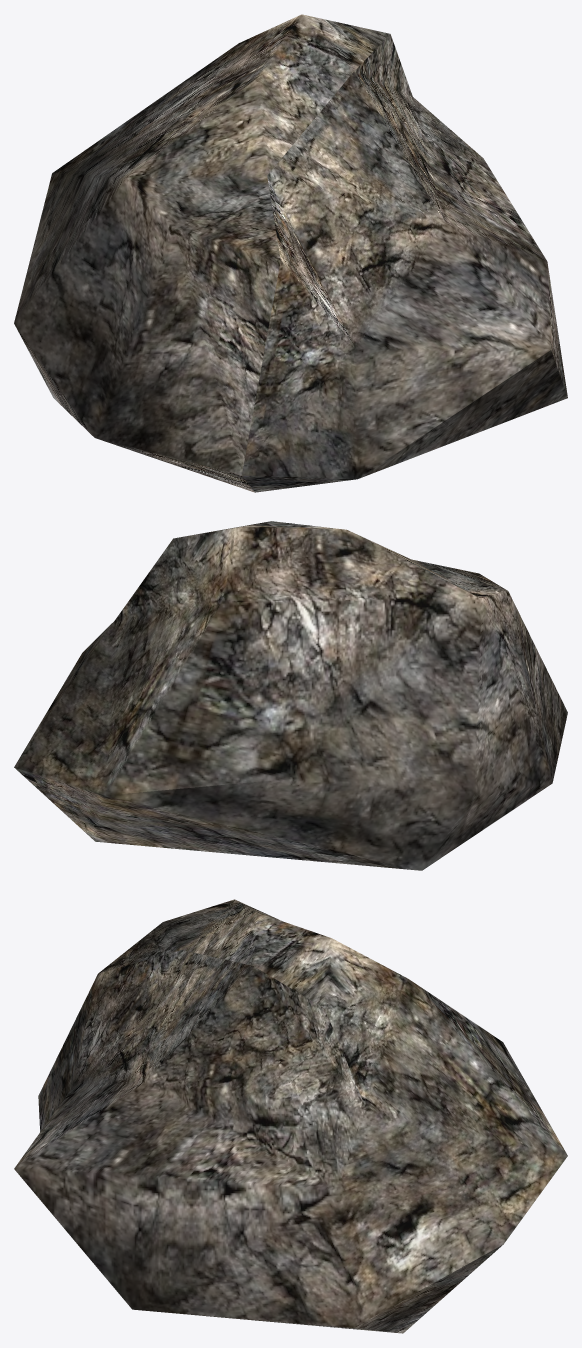
The model's file is pir_m_prp_cav_rock_i.fbx.
The picture shows the model from 3 angles, top to bottom: view 1: azimuth 30°, elevation 25°; view 2: azimuth 150°, elevation 25°; view 3: azimuth 270°, elevation 25°; orthographic projection. The views are drawn at different scales.
Parts seen in each view (by area): view 1: lod_high; view 2: lod_high; view 3: lod_high.
Boxes of the visible parts, x1,y1,x2,y2 form: lod_high: (14, 14, 567, 492); lod_high: (14, 521, 567, 870); lod_high: (14, 899, 567, 1333).
Bounding box in the file's own units: 198 × 139 × 205.
1 material, 1 textured.
